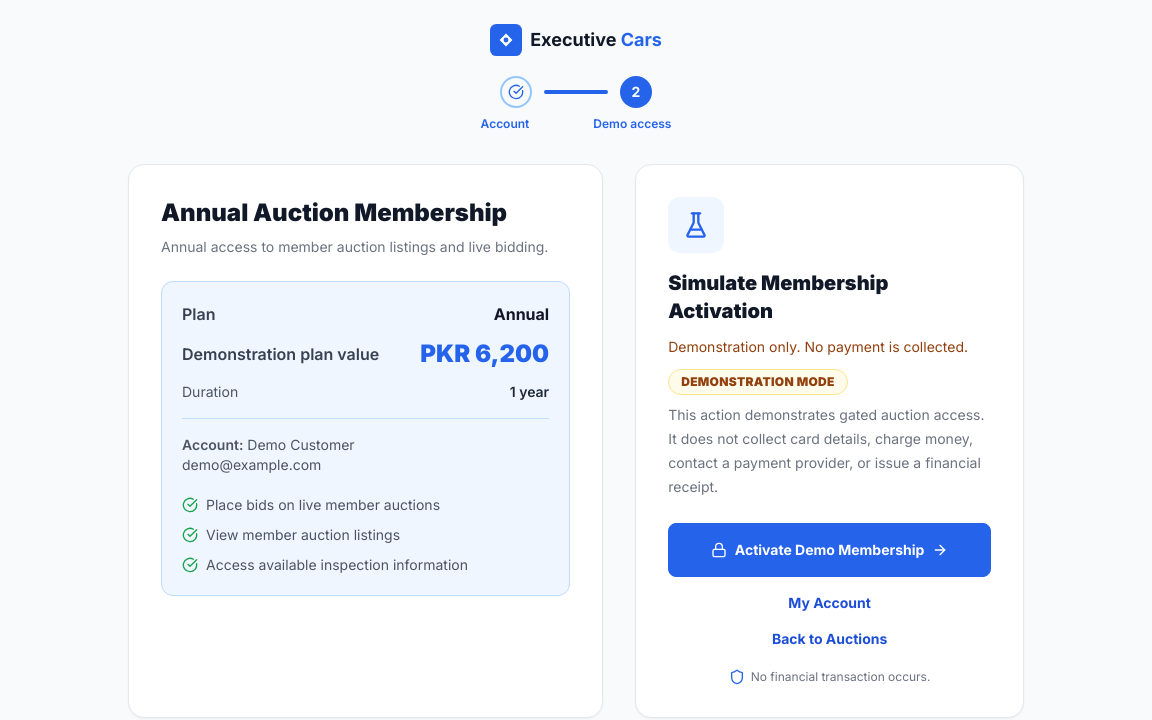
activates using the existing endpoint and confirms success through the saved server account
Click the button "Activate Demo Membership".
click(830, 550)  # box [668,523,991,577]
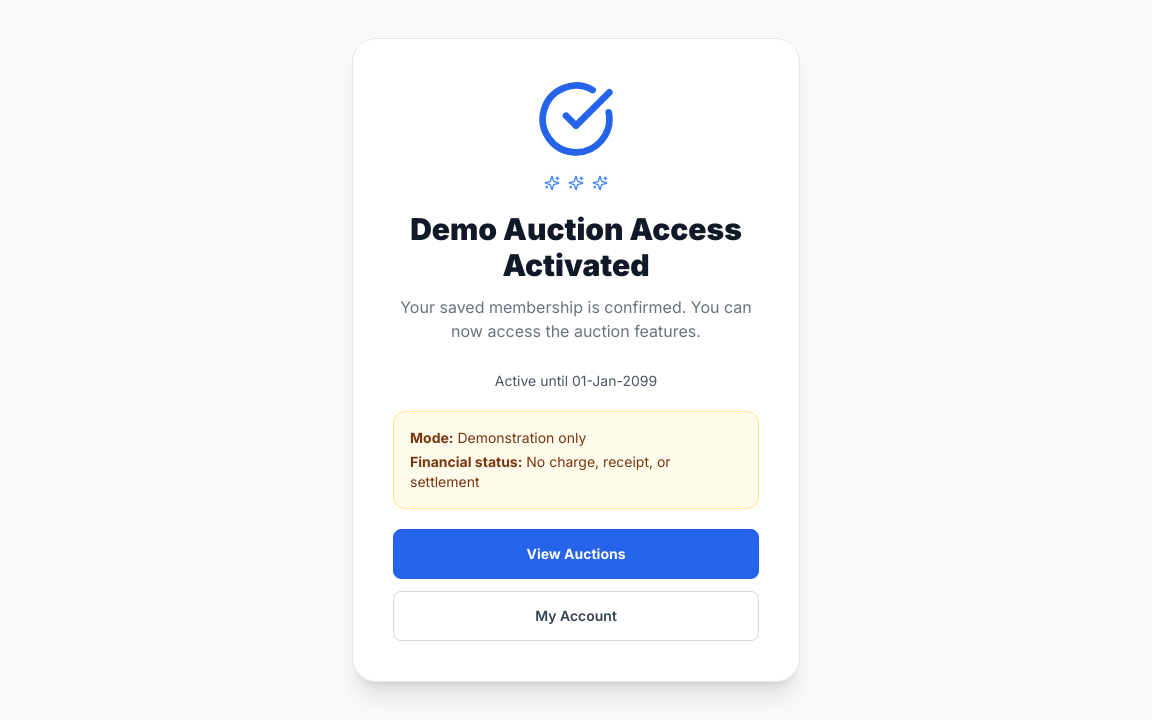
Expected: the heading "Demo Auction Access Activated" is shown, [393,211,759,283]
Expected: the text "Financial status: No charge, receipt, or settlement" is shown, [410,453,671,490]
